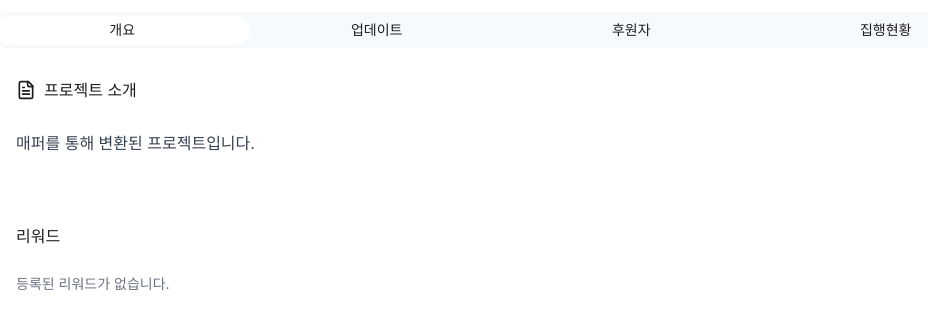
Scenario: ProjectTabs detail view › renders safely with mapped project response and missing arrays
Expected: the heading "프로젝트 소개" is shown, [16,80,137,100]
Expected: the text "등록된 리워드가 없습니다." is shown, [16,275,170,292]
Note: 업데이트 탭 클릭
Click the tab "업데이트" at (377, 30), box [250,16,504,44]
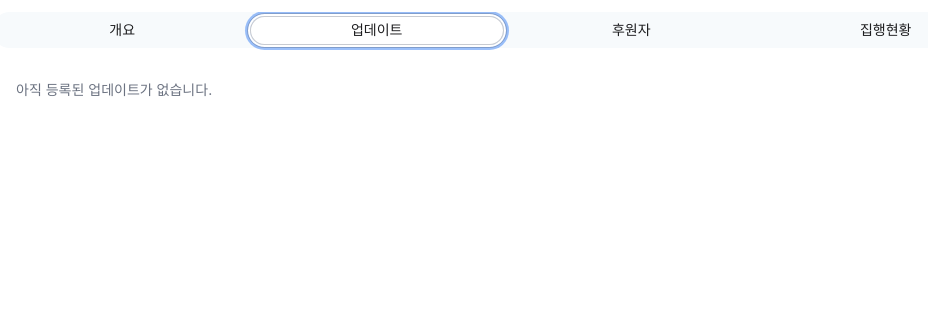
Expected: the text "아직 등록된 업데이트가 없습니다." is shown, [16,81,212,98]
Note: 후원자 탭 클릭
Click the tab "후원자" at (631, 30), box [504,16,758,44]
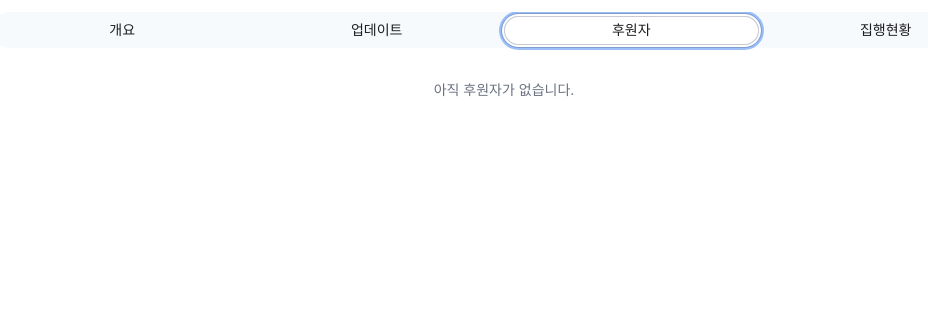
Expected: the text "아직 후원자가 없습니다." is shown, [434,81,574,98]
